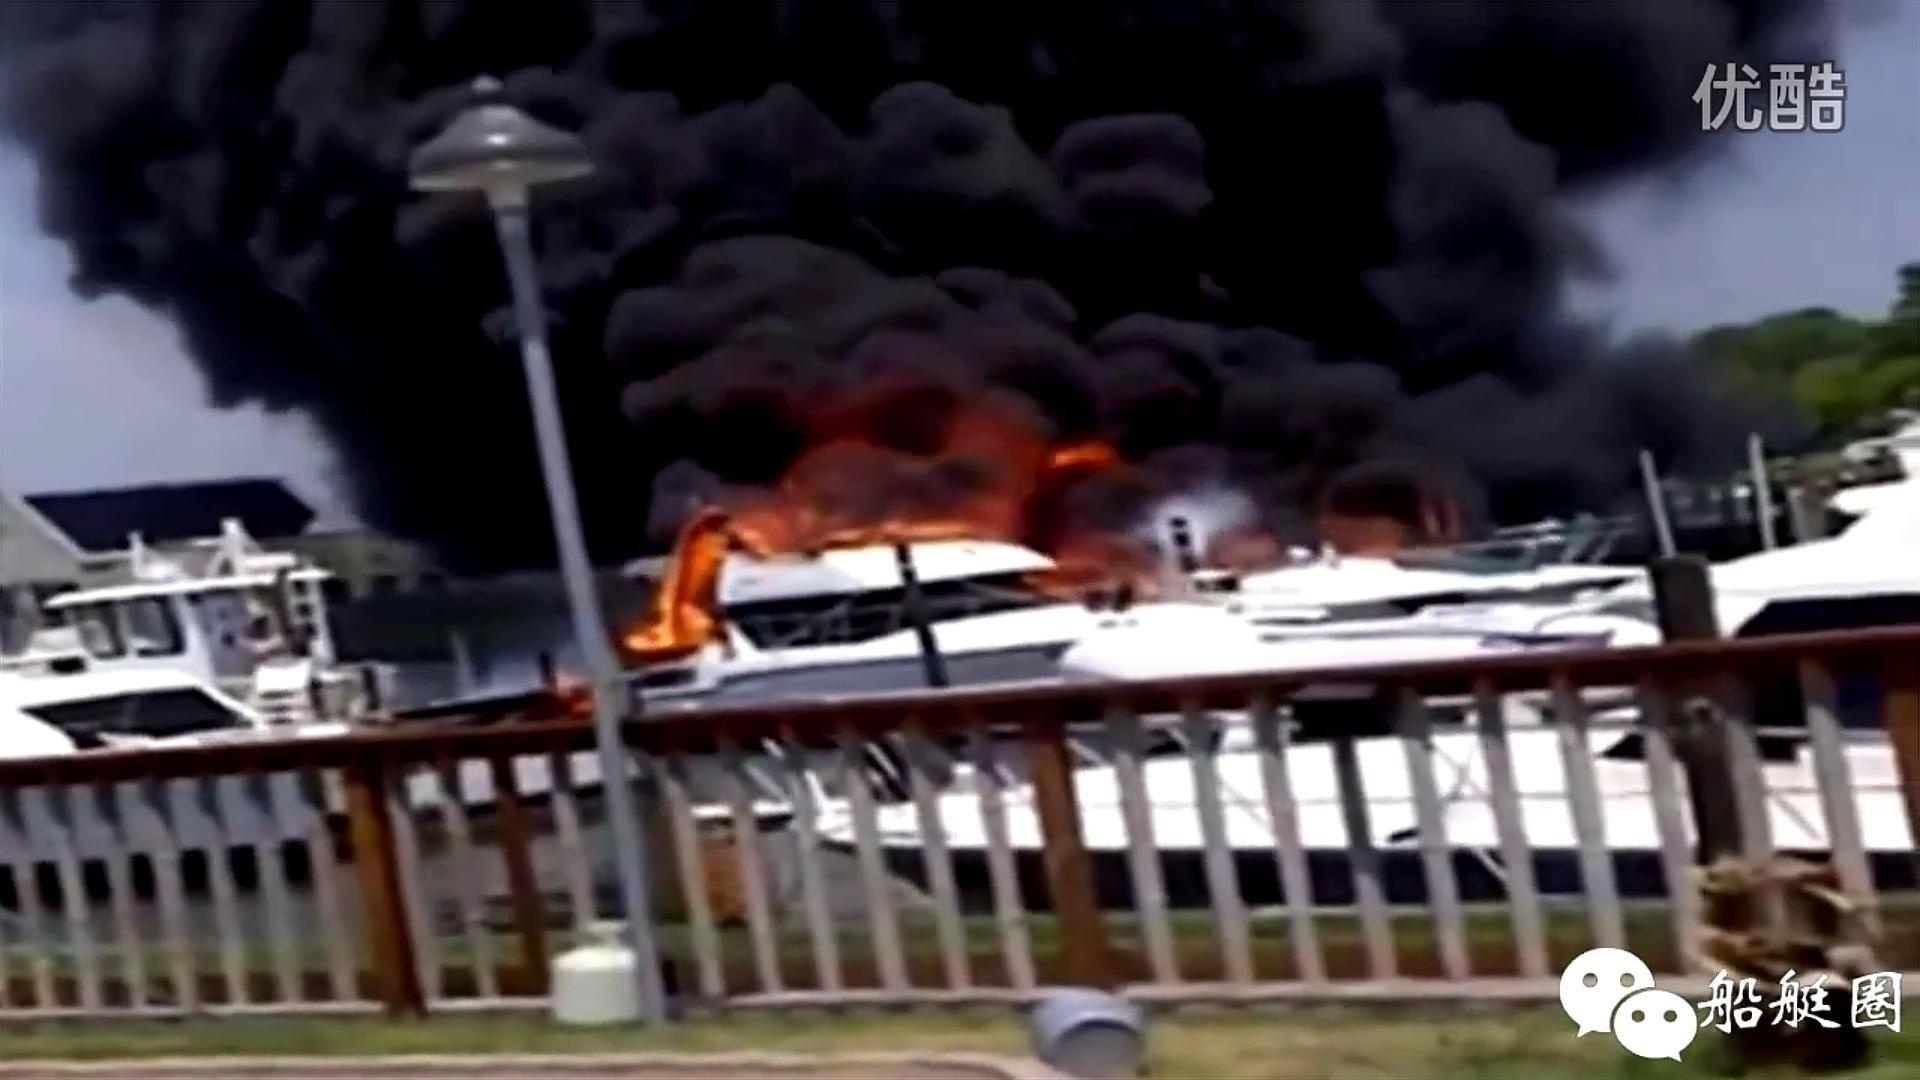fire: (620, 418, 1126, 670)
